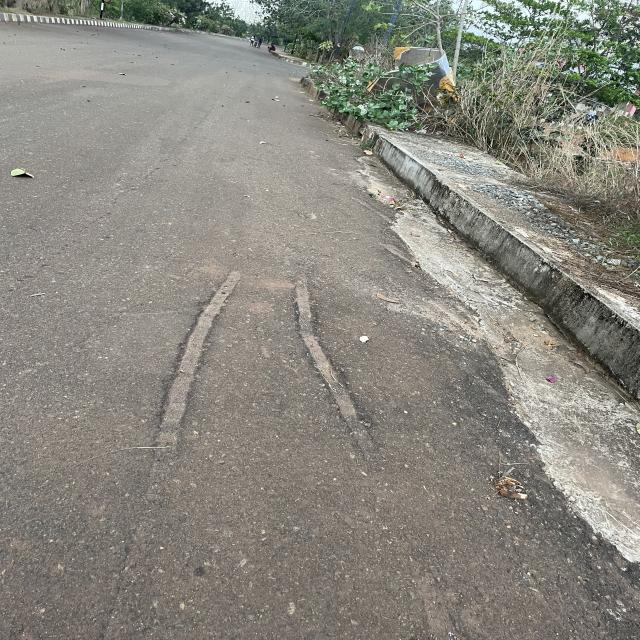D40: (188, 256, 360, 464)
